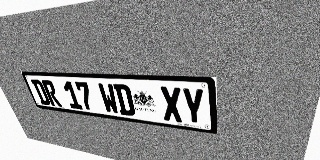1: (61, 81, 83, 110)
7: (74, 82, 96, 111)
D: (113, 84, 136, 116), (30, 79, 51, 105)
R: (41, 80, 62, 107)
W: (97, 83, 120, 114)
X: (159, 86, 183, 123)
Y: (181, 87, 205, 125)
